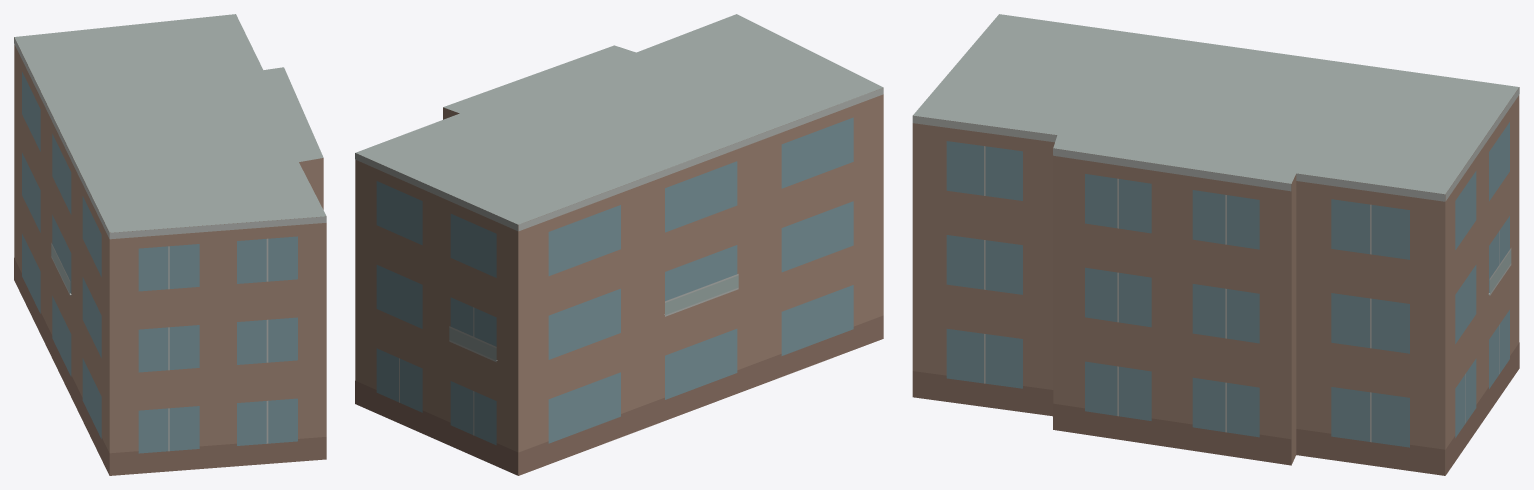
The model's file is survey-upis-32877217.glb.
3 views of the same model, side by side, from view 1: azimuth 30°, elevation 25°; view 2: azimuth 150°, elevation 25°; view 3: azimuth 270°, elevation 25° (orthographic). The views are drawn at different scales.
Parts seen in each view (by area): view 1: survey-upis-32877217.tmp; view 2: survey-upis-32877217.tmp; view 3: survey-upis-32877217.tmp.
Boxes of the visible parts, bbox=[...] form: survey-upis-32877217.tmp: bbox=[14, 14, 326, 475]; survey-upis-32877217.tmp: bbox=[355, 14, 883, 475]; survey-upis-32877217.tmp: bbox=[912, 14, 1519, 475].
Size of the model in its own units: 12.57 by 9.15 by 17.88.
